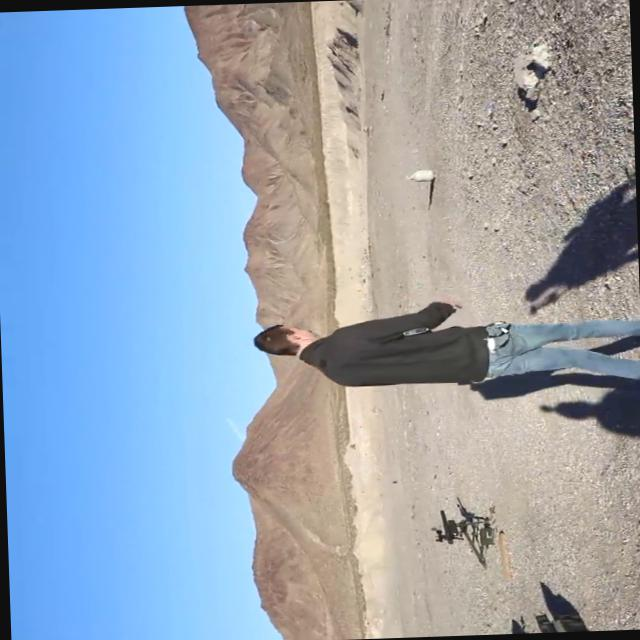long weapon: (408, 486, 492, 555)
